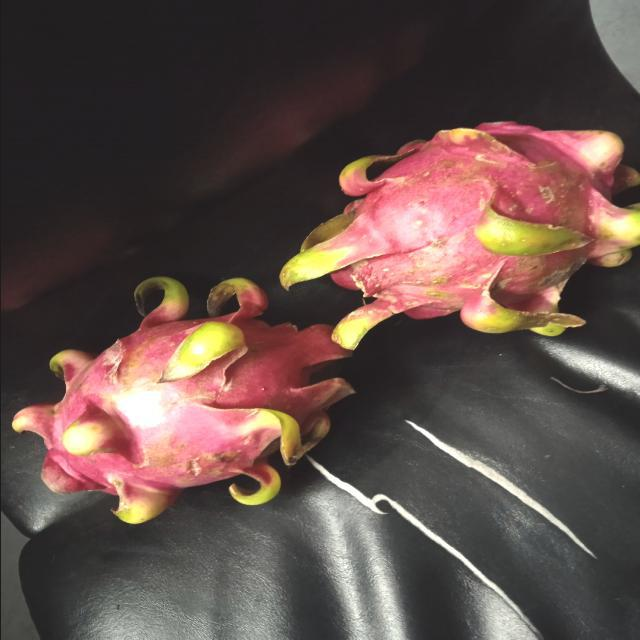do: (277, 112, 639, 349), (9, 274, 352, 522)
